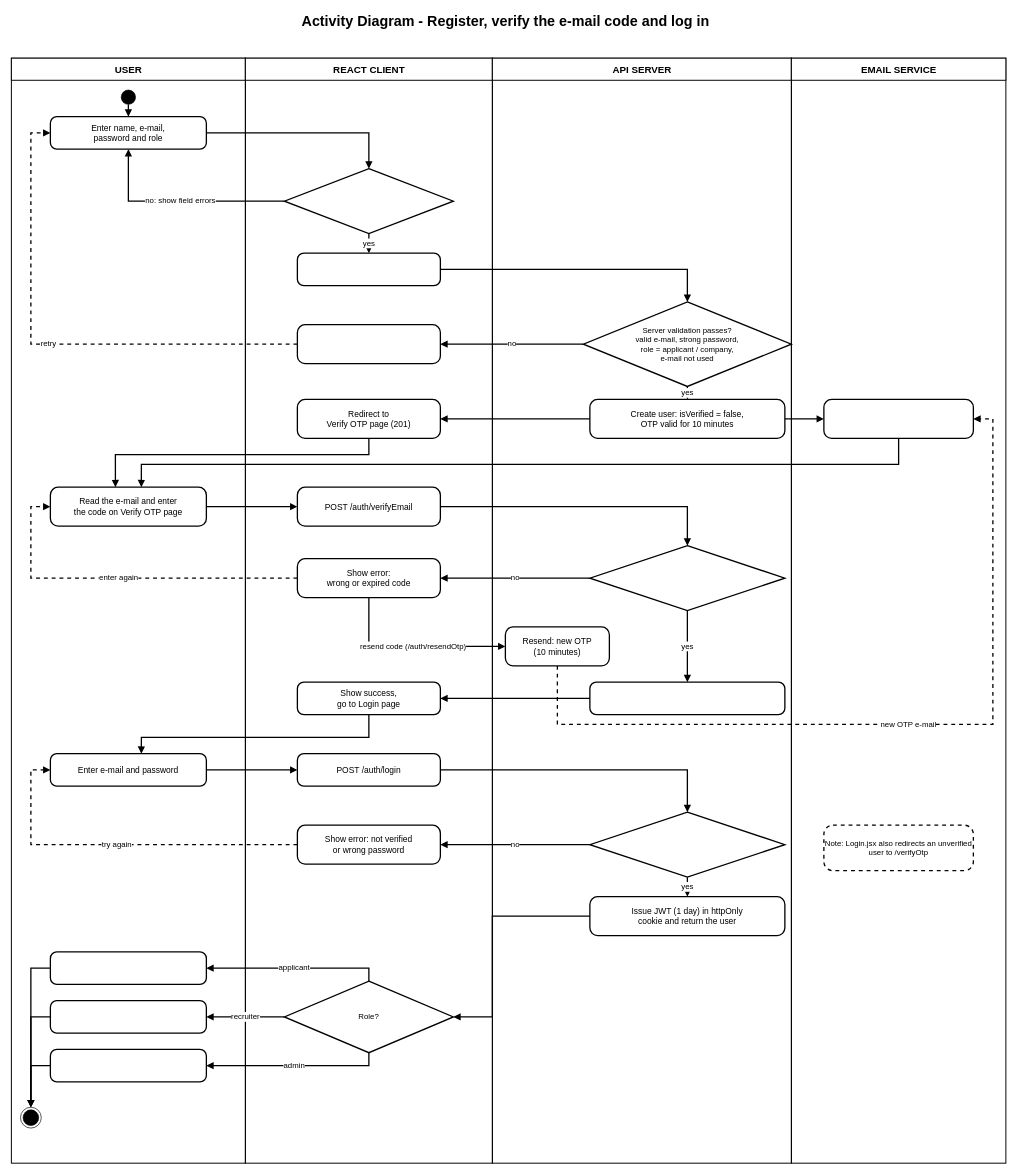
Image size: 1018x1175. Some labels were removed from this diagram. Each missing label, with the centre of its shape:
Admin dashboard /dashboard/admin: point 128,1065
Applicant dashboard /dashboard/applicant: point 128,968
Client validation passed?: point 368,201
Code correct and not expired?: point 687,578
Mark isVerified = true: point 687,698
POST /auth/register: point 368,269
Recruiter dashboard /dashboard/recruiter: point 128,1017
Send OTP e-mail (Gmail SMTP): point 898,418
Show server error (400 / 409): point 368,344
Verified and password correct?: point 687,844
